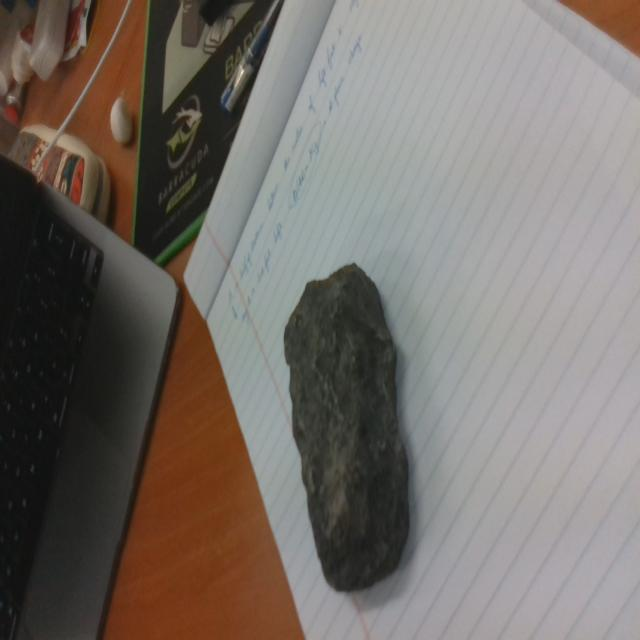stone: (285, 264, 412, 590)
